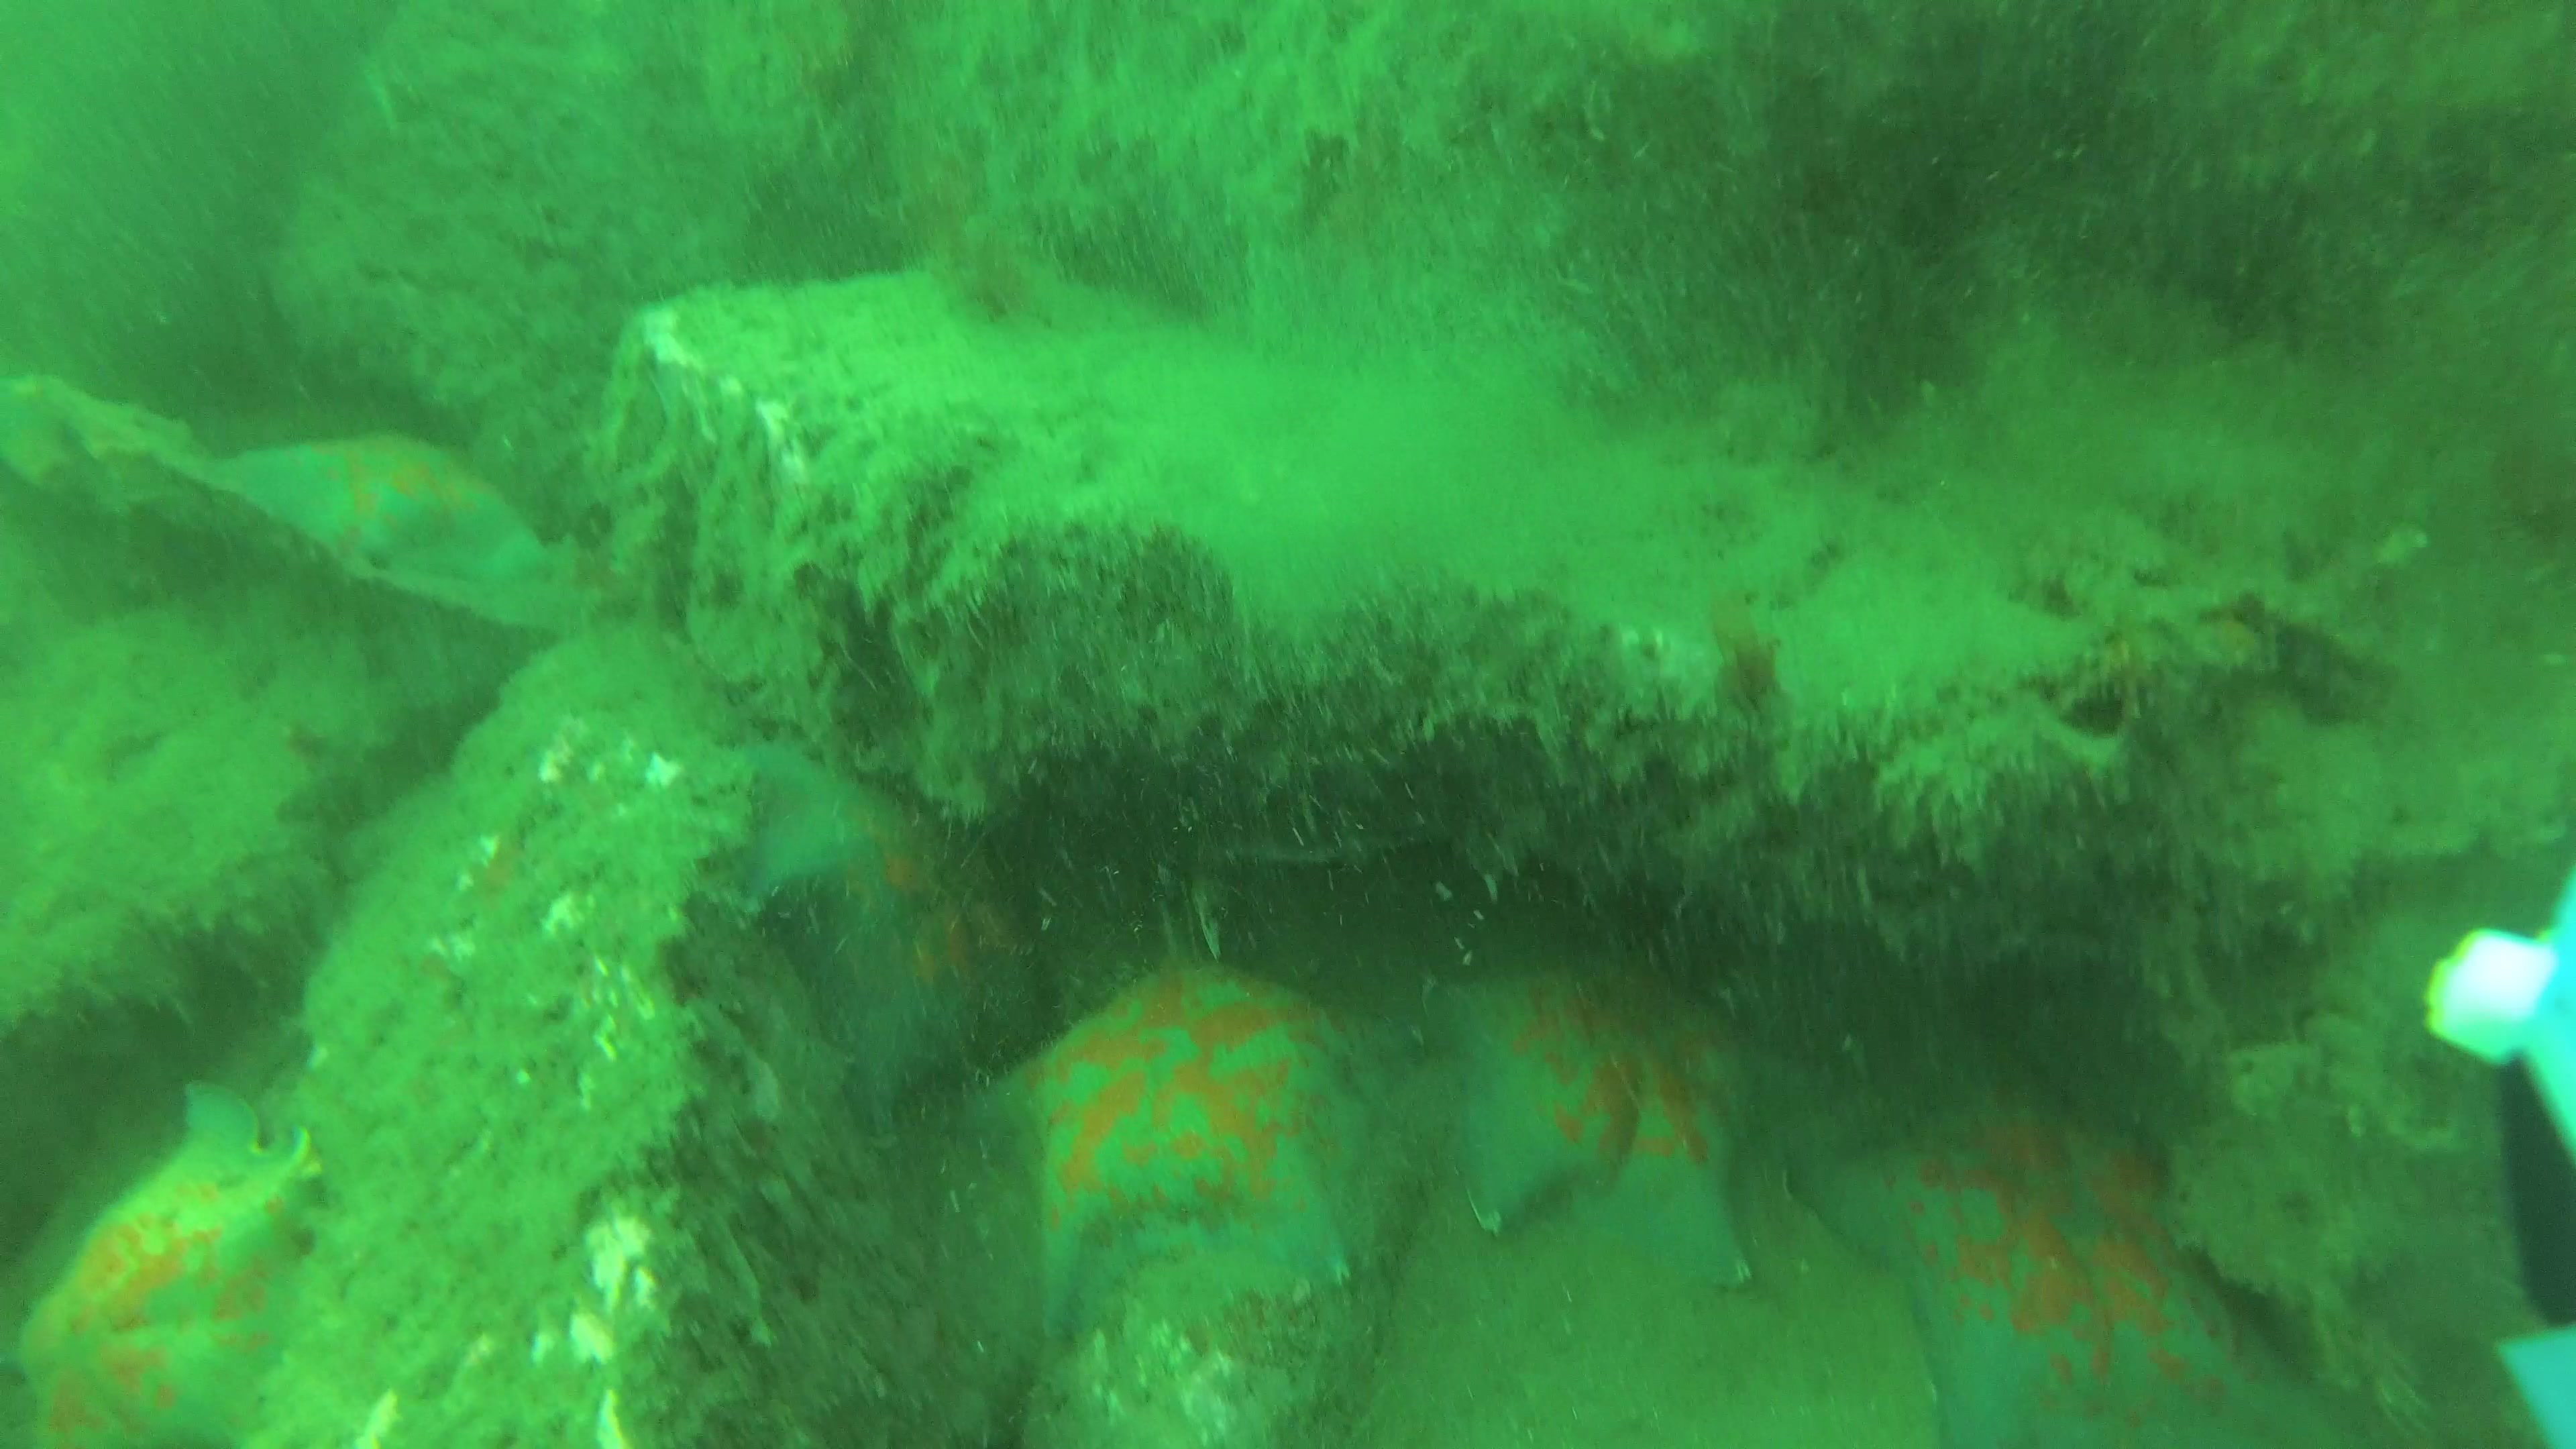starfish: (1794, 1077, 2339, 1449), (975, 952, 1408, 1346), (14, 1077, 324, 1449), (1419, 952, 1755, 1290), (740, 738, 1035, 1122), (219, 437, 545, 594)
